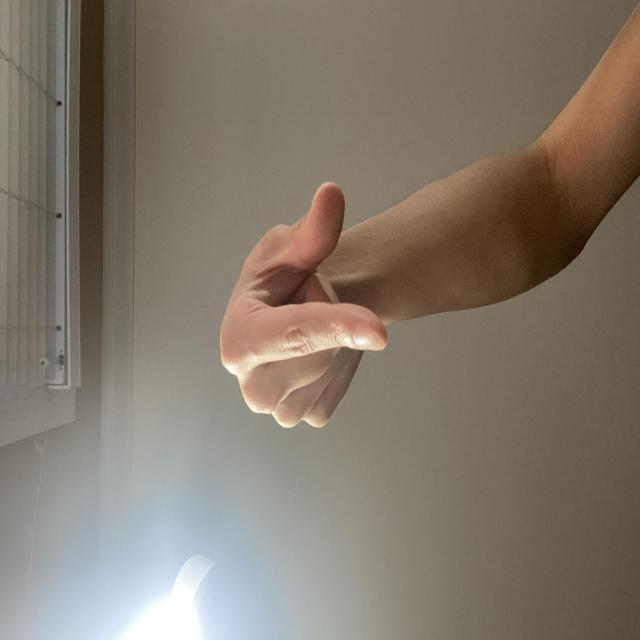Q: (153, 286, 349, 528)
